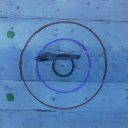Axe Tip: (33, 58, 45, 60)
